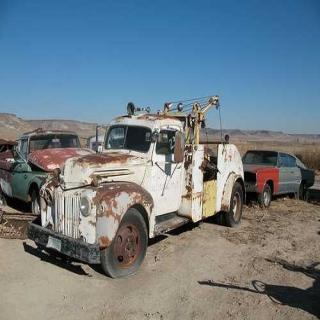Towing_truck: (27, 94, 246, 279), (240, 148, 315, 208)
